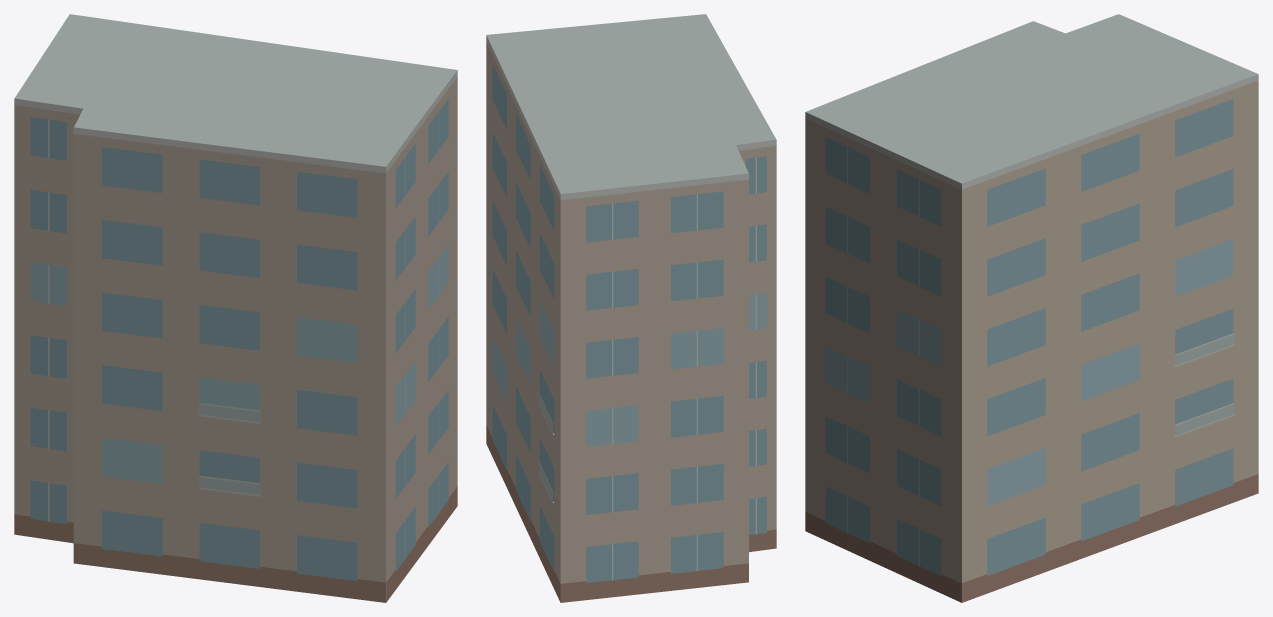
The model's file is survey-upis-32773192.glb.
The picture shows the model from 3 angles, left to right: view 1: azimuth 30°, elevation 25°; view 2: azimuth 150°, elevation 25°; view 3: azimuth 270°, elevation 25°; orthographic projection. The views are drawn at different scales.
Visible parts, largest first — view 1: survey-upis-32773192.tmp; view 2: survey-upis-32773192.tmp; view 3: survey-upis-32773192.tmp.
Boxes of the visible parts, left/top/right/bottom form: survey-upis-32773192.tmp: left=14, top=14, right=457, bottom=602; survey-upis-32773192.tmp: left=486, top=14, right=776, bottom=602; survey-upis-32773192.tmp: left=805, top=14, right=1258, bottom=602.
Size of the model in its own units: 14.24 by 16.4 by 16.08.
